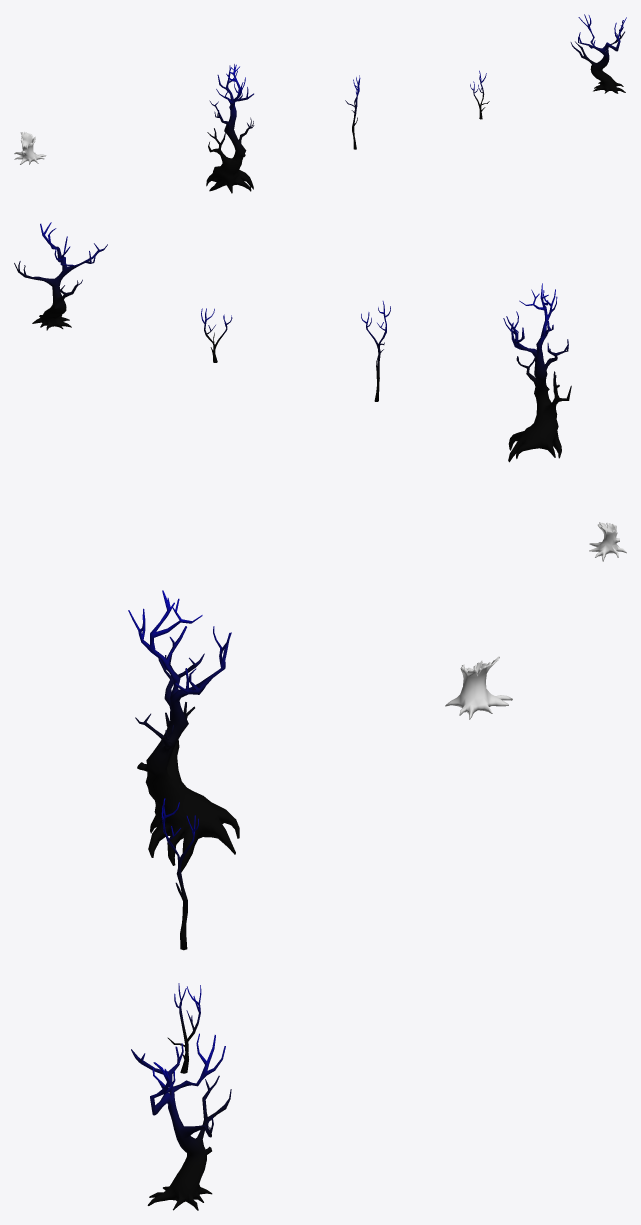
Rendered from tree.fbx.
3 views of the same model, one above another, from view 1: azimuth 30°, elevation 25°; view 2: azimuth 150°, elevation 25°; view 3: azimuth 270°, elevation 25° (orthographic). The views are drawn at different scales.
Parts seen in each view (by area): view 1: Tree_01_i_LOD0, Tree_04_i_LOD0, Tree_05_LOD0; view 2: Tree_01_i_LOD0, Tree_04_i_LOD0, Tree_05_LOD0; view 3: Tree_01_i_LOD0, Tree_04_i_LOD0, Tree_05_LOD0, Tree_02_i_LOD0.
Boxes of the visible parts, <box> form: Tree_01_i_LOD0: <box>206,64,254,193</box>; Tree_04_i_LOD0: <box>570,14,626,93</box>; Tree_05_LOD0: <box>14,132,46,164</box>; Tree_01_i_LOD0: <box>503,283,571,462</box>; Tree_04_i_LOD0: <box>14,222,107,330</box>; Tree_05_LOD0: <box>589,522,626,561</box>; Tree_01_i_LOD0: <box>128,590,239,872</box>; Tree_04_i_LOD0: <box>131,1033,231,1210</box>; Tree_05_LOD0: <box>445,656,512,719</box>; Tree_02_i_LOD0: <box>161,798,198,950</box>.
Size of the model in its own units: 43.02 by 10.1 by 13.23.
